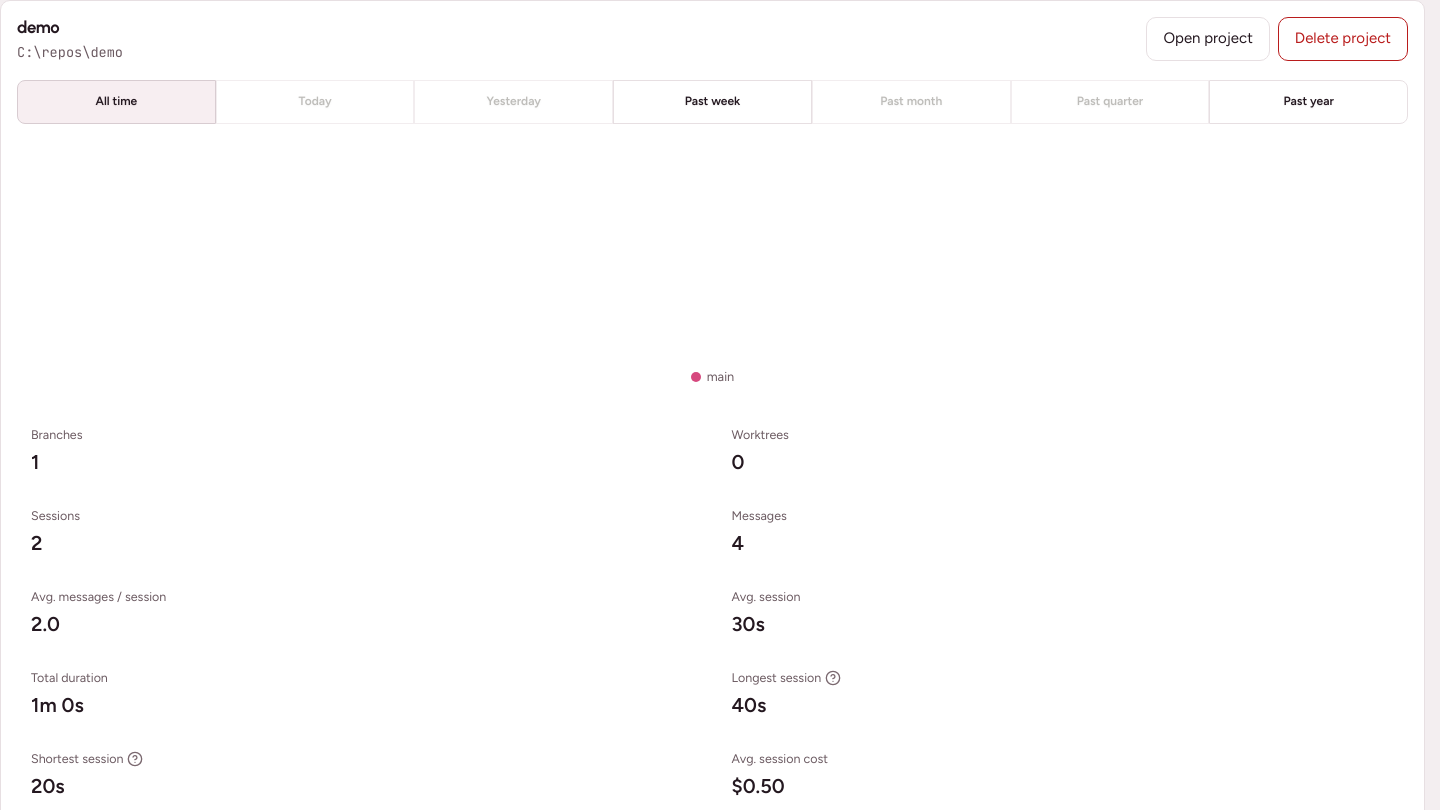
Test: ProjectDetailPanel delete › opens a confirmation naming the path, without deleting yet
Click the button "Delete project": [1343, 39] box [1278,17,1408,61]
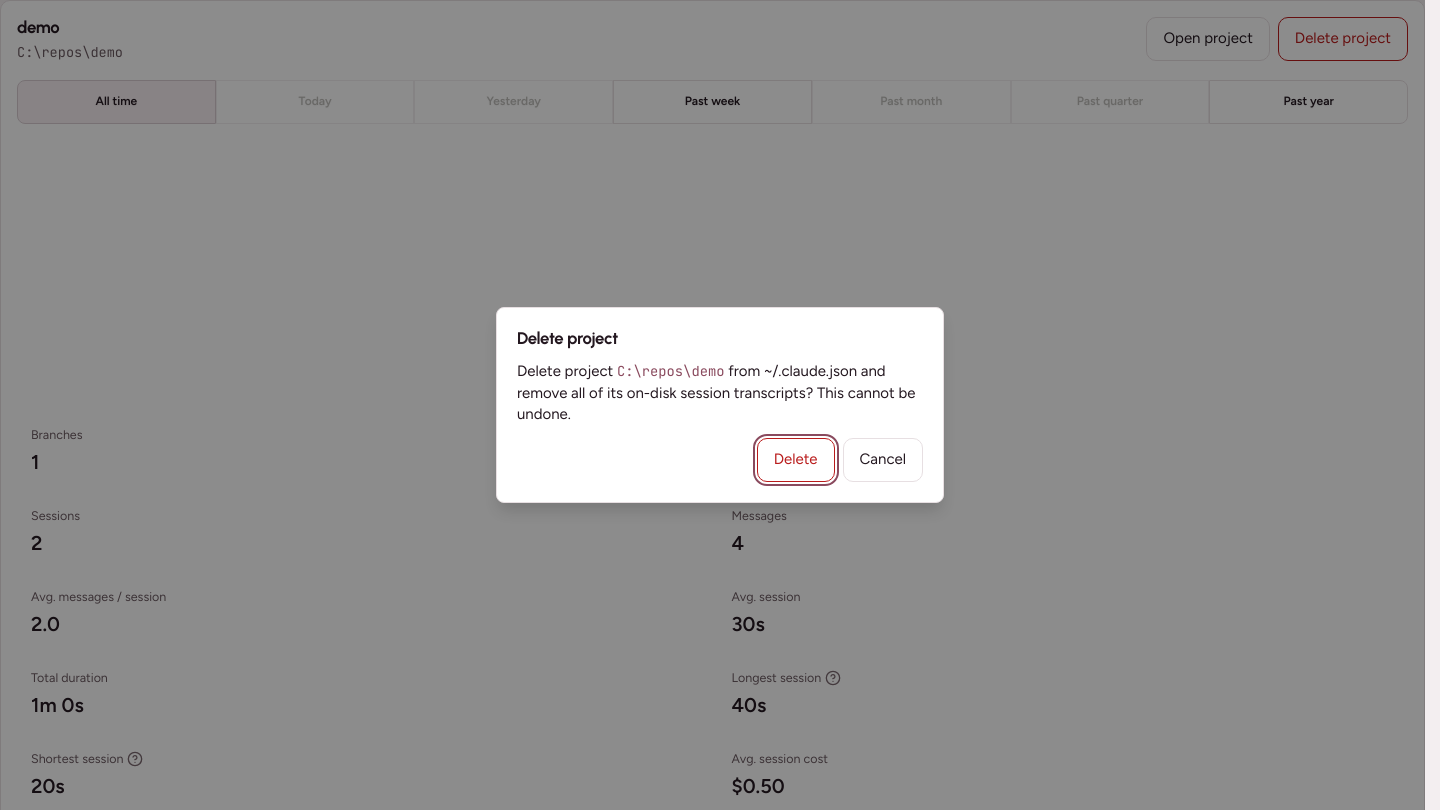
expect the dialog shows "C:\\repos\\demo": met, box [617,362,724,380]
expect the dialog shows "This cannot be undone.": met, box [517,362,915,423]
